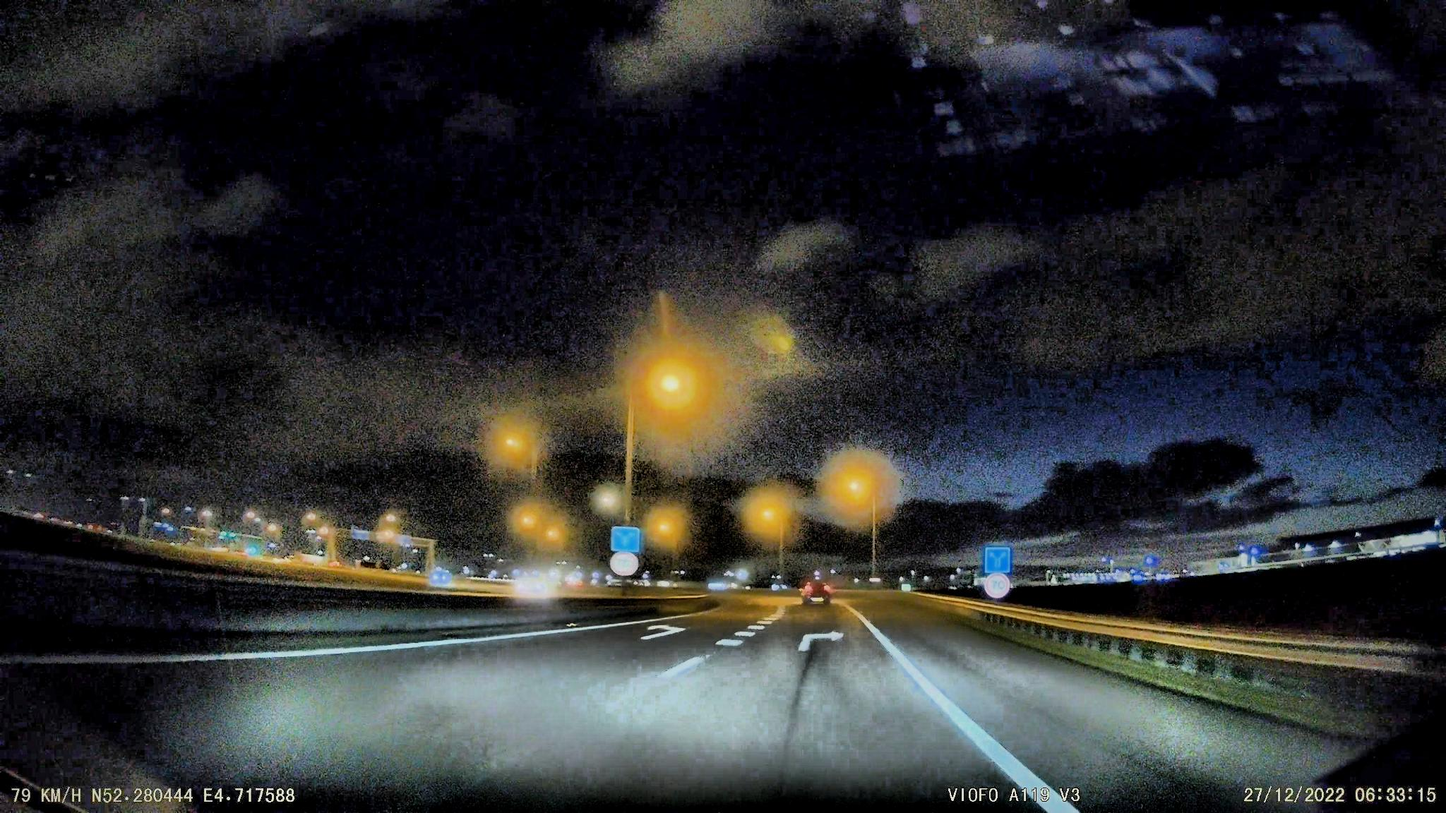Roads: (0, 593, 1322, 813)
